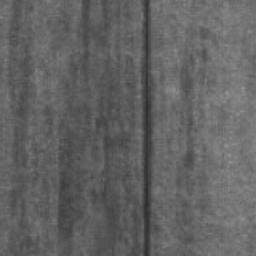Scratches: (141, 0, 153, 256)
